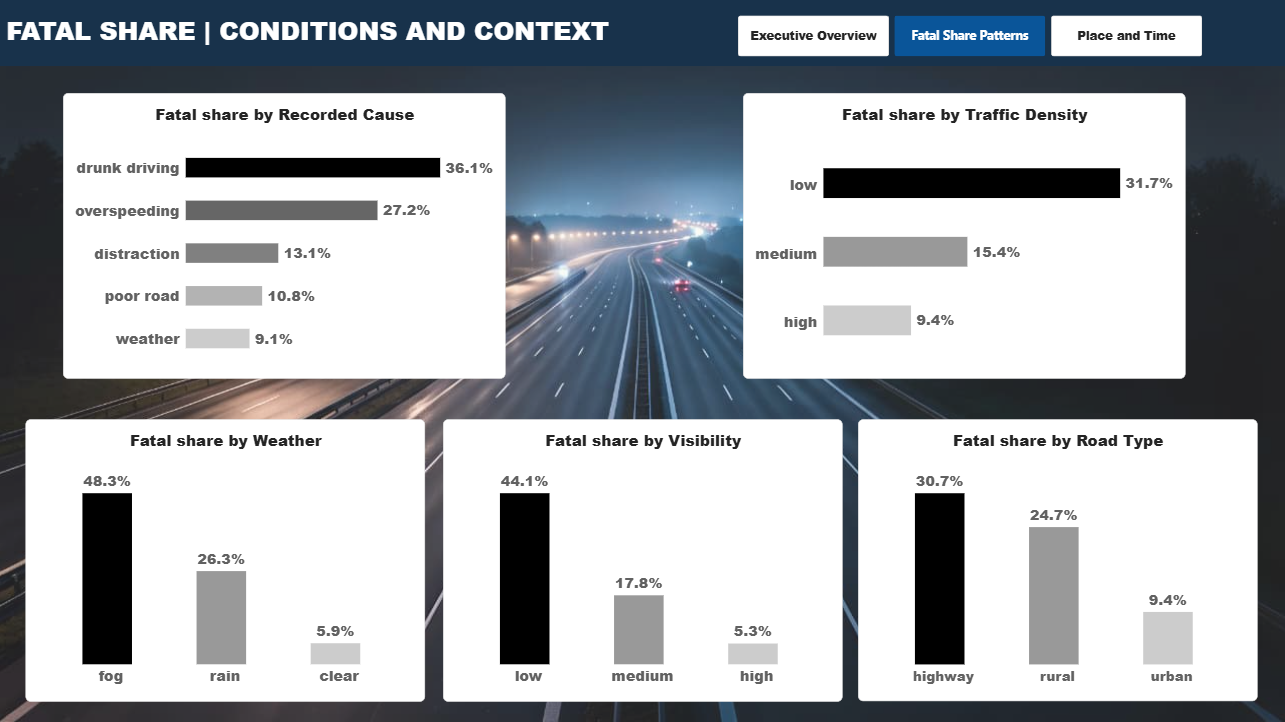

What the dashboard file says about the page in this screenshot:
{"tool":"powerbi","page":{"name":"Fatal Share Patterns","canvas":[1920,1080],"ordinal":1},"visuals":[{"type":"shape","box":[0,0,1920.1,101.3],"z":0},{"type":"textbox","box":[0,21.7,932,79.6],"z":1000},{"type":"clusteredColumnChart","title":"Fatal share by Road Type","fields":{"Category":["Accidents.road_type"],"Y":["Accidents.Fatal Share"]},"box":[1281,627.5,595,420],"z":2000},{"type":"clusteredBarChart","title":"Fatal share by Traffic Density","fields":{"Category":["Accidents.traffic_density"],"Y":["Accidents.Fatal Share"]},"box":[1109.3,141.2,659,425.3],"z":3000},{"type":"clusteredBarChart","title":"Fatal share by Recorded Cause","fields":{"Category":["Accidents.cause"],"Y":["Accidents.Fatal Share"]},"box":[96.8,141.5,659,425.3],"z":4000},{"type":"pageNavigator","box":[1102.1,25.3,693.1,61.5],"z":5000},{"type":"clusteredColumnChart","title":"Fatal share by Weather","fields":{"Category":["Accidents.weather"],"Y":["Accidents.Fatal Share"]},"box":[41,627.5,595,420.8],"z":8000},{"type":"clusteredColumnChart","title":"Fatal share by Visibility","fields":{"Category":["Accidents.visibility"],"Y":["Accidents.Fatal Share"]},"box":[662.8,627.5,595,420.8],"z":9000}]}

Visuals, with their boxes in screenshot pixels (x1, y1, x2, y2), scaled from the page's 1920x1080 canvas onto the 1285x722 screenshot:
shape: 0/0/1284/68
textbox: 0/15/624/68
"Fatal share by Road Type" clusteredColumnChart: 857/419/1256/700
"Fatal share by Traffic Density" clusteredBarChart: 742/94/1183/379
"Fatal share by Recorded Cause" clusteredBarChart: 65/95/506/379
pageNavigator: 738/17/1201/58
"Fatal share by Weather" clusteredColumnChart: 27/419/426/701
"Fatal share by Visibility" clusteredColumnChart: 444/419/842/701
